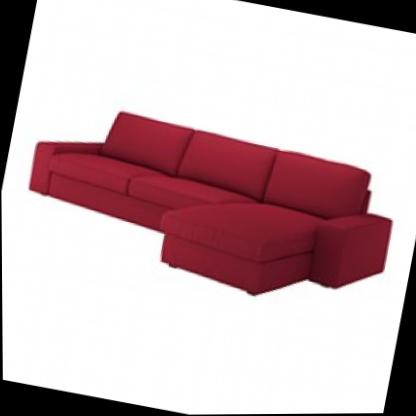Sofa: (4, 76, 412, 330)
